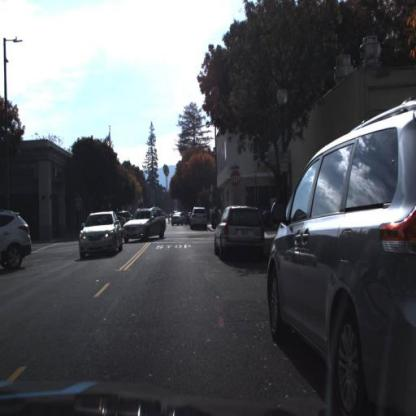car: (263, 88, 416, 416), (266, 94, 416, 415), (212, 202, 268, 266), (76, 209, 125, 264), (1, 207, 33, 270), (122, 206, 169, 244), (188, 204, 211, 235)
